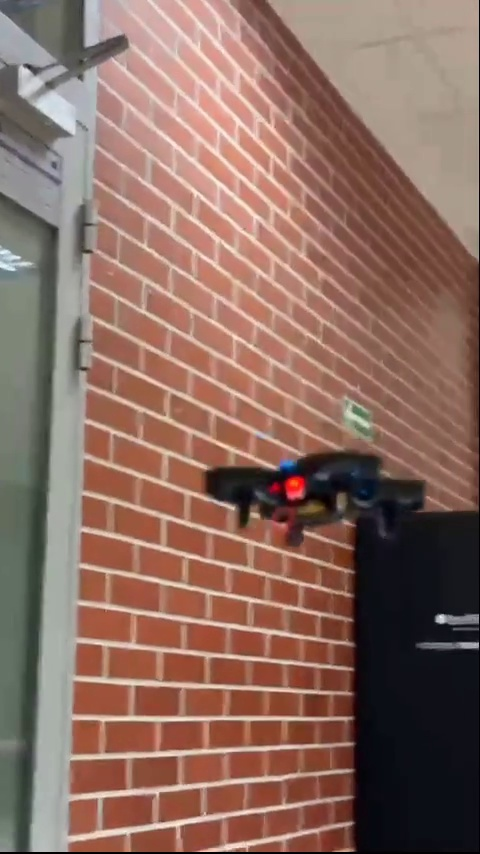drone: (206, 446, 426, 547)
